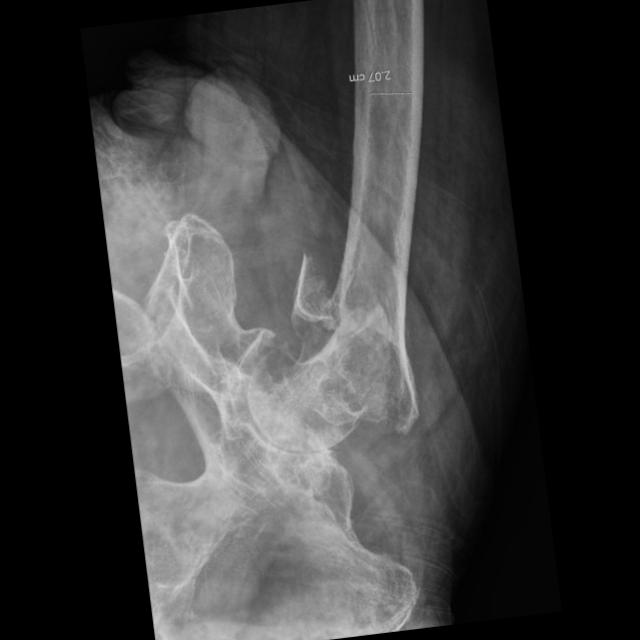right-intertrochanteric: (245, 303, 390, 450), (318, 249, 418, 432)
right-lesser-trochanter: (293, 251, 332, 320)
